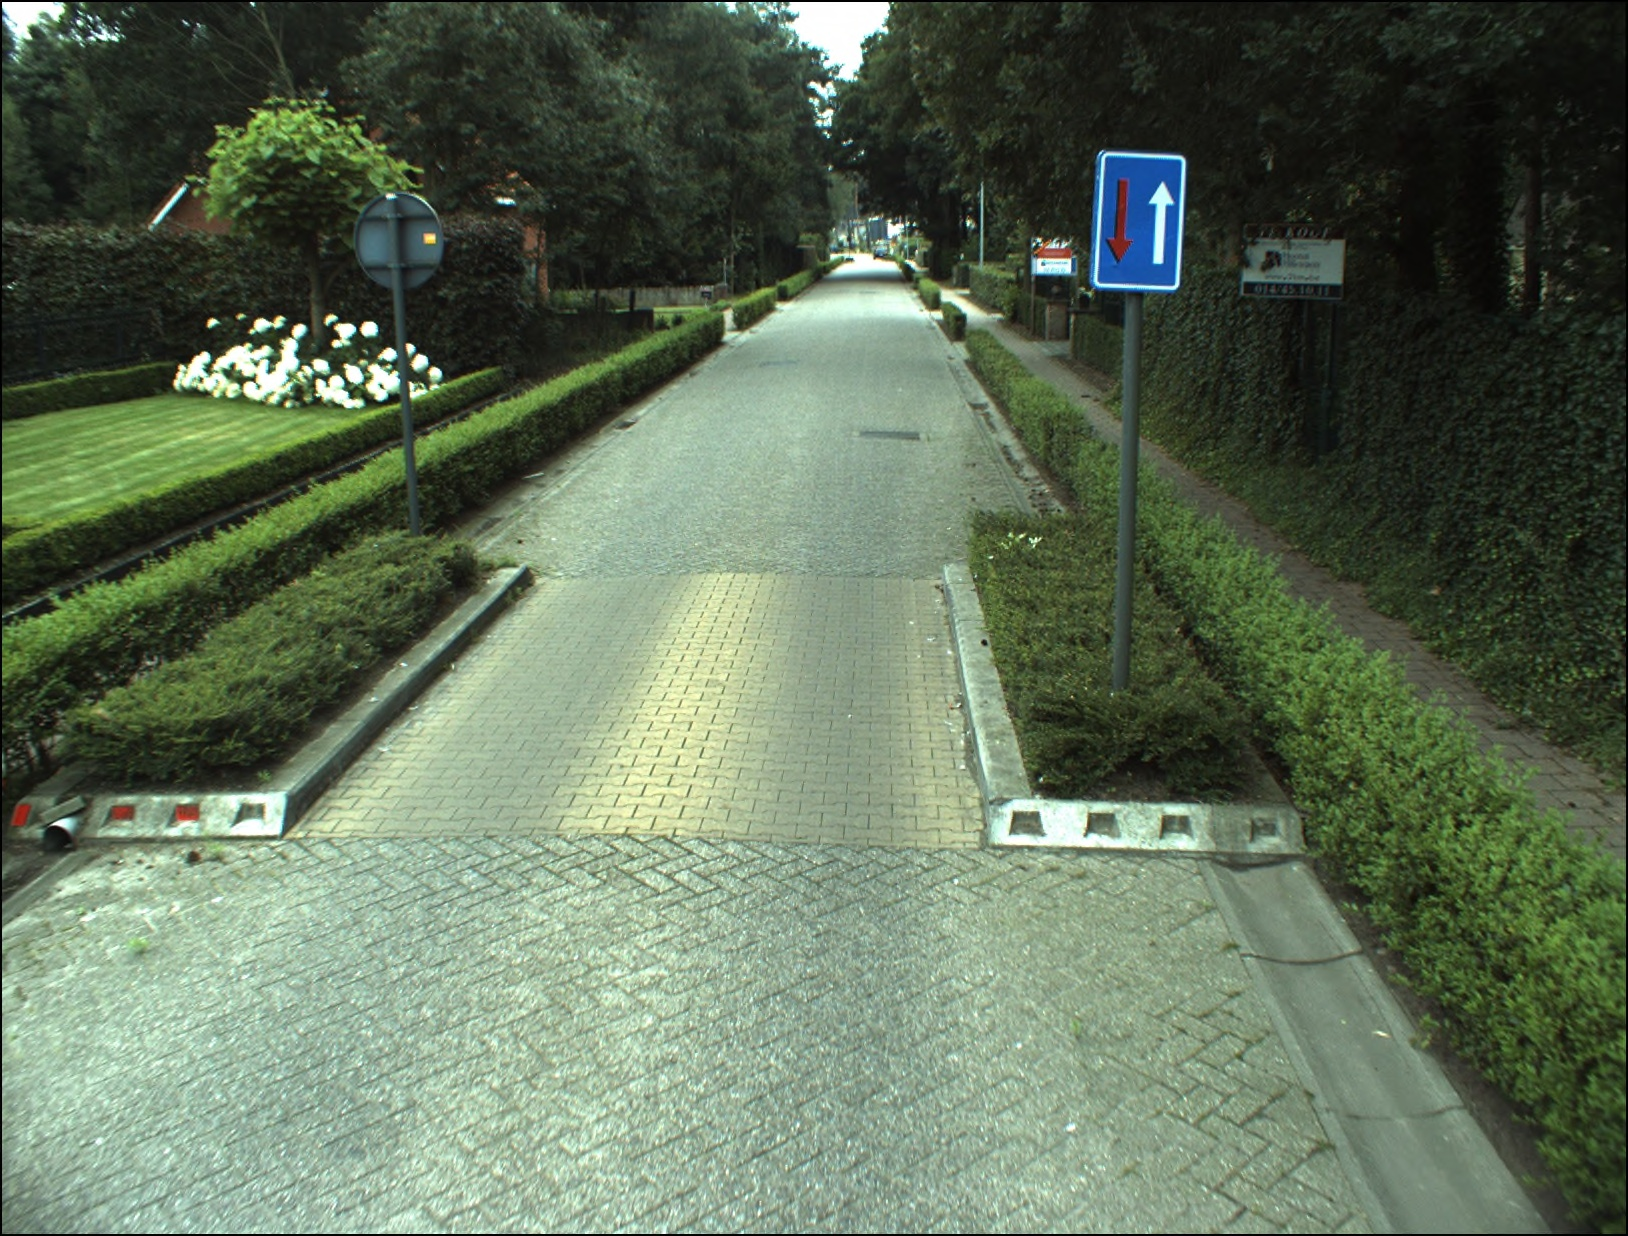roadnarrow1: (1101, 147, 1178, 282)
